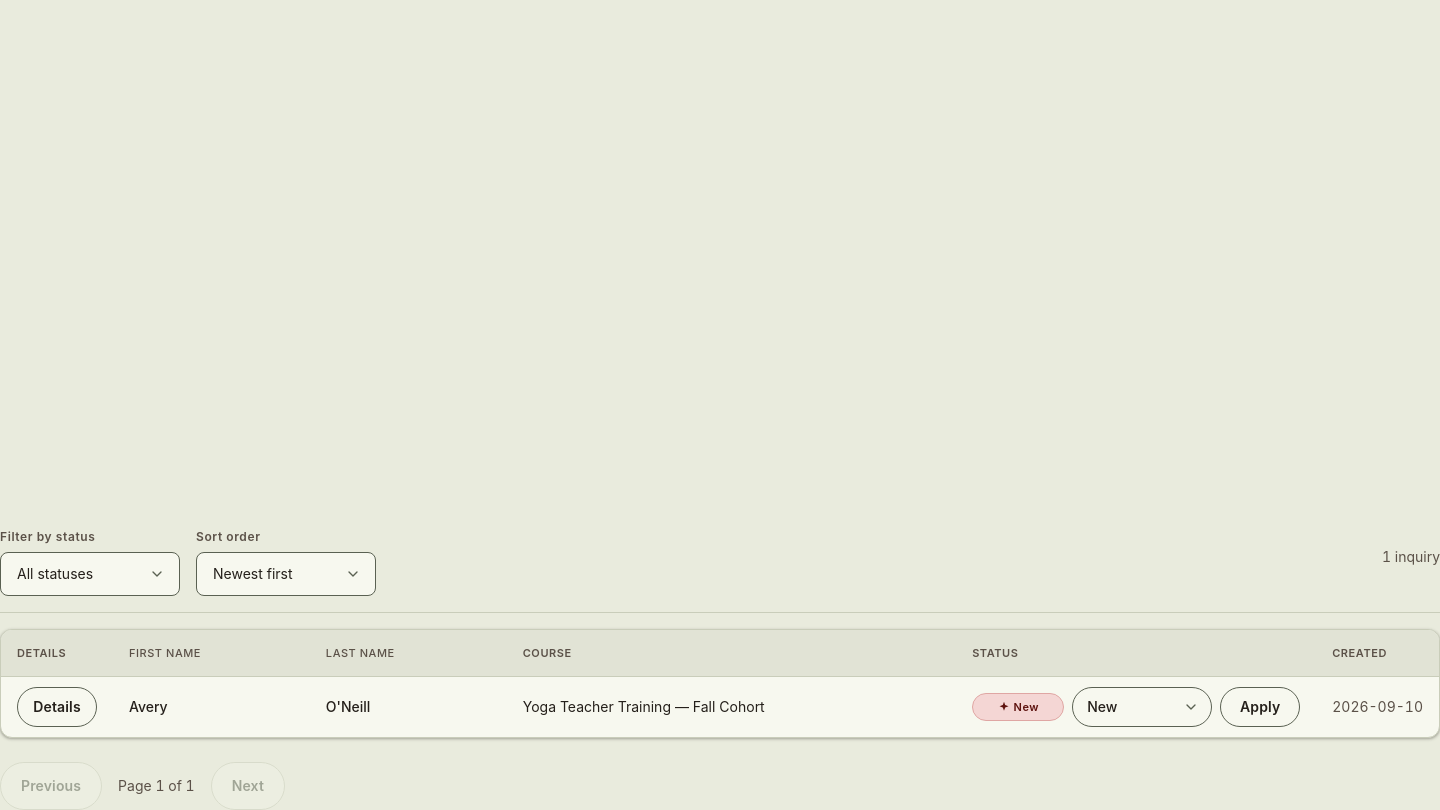
Scenario: IT-UI-028 detail focus moves in and returns to the opener › focuses the panel on open and restores the opener on Escape and Close
(page scrolled)
Click the button with aria-label "details for Avery O'Neill" at (57, 707), box [17,687,97,727]
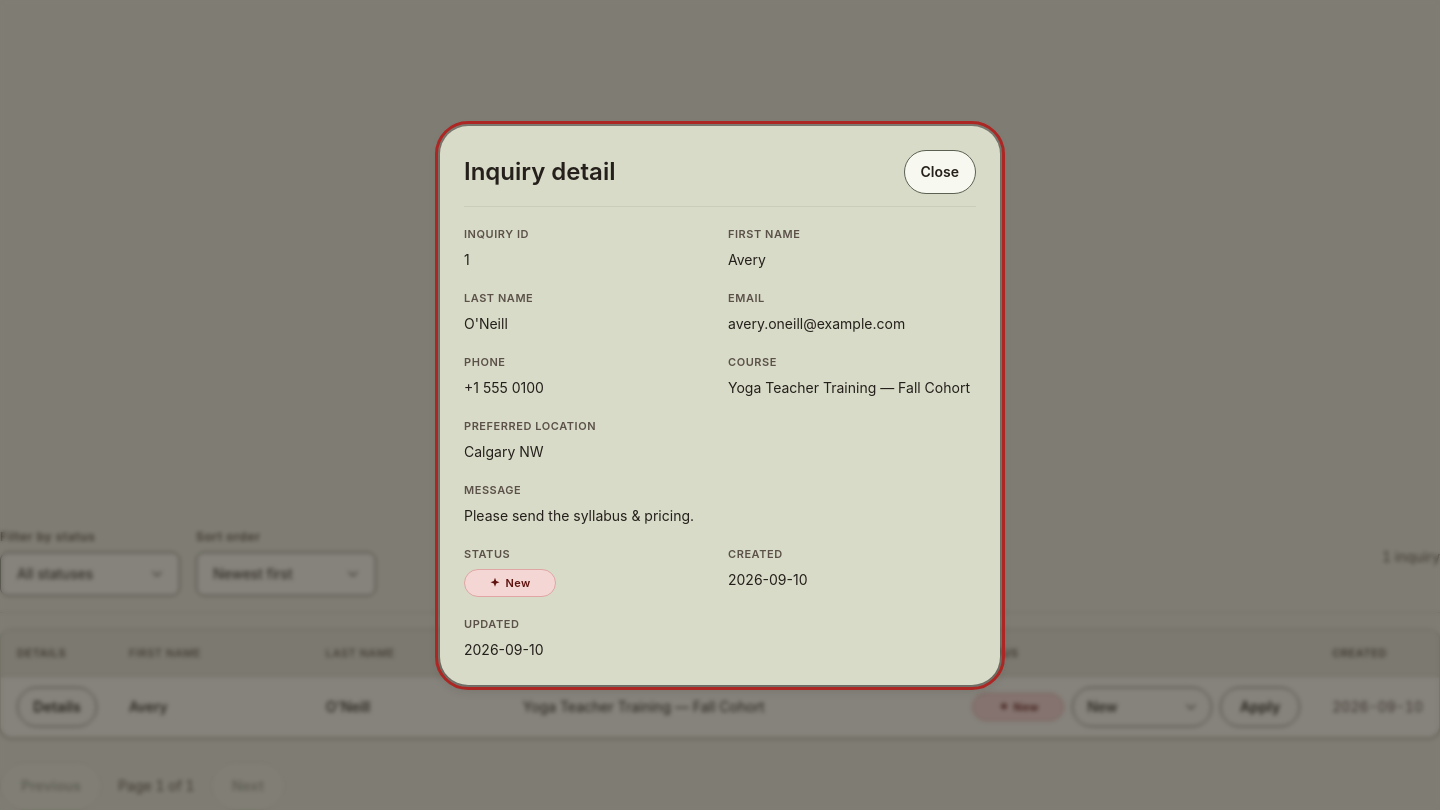
Check: the text "Email" is shown, box [728,290,765,304]
Press Escape
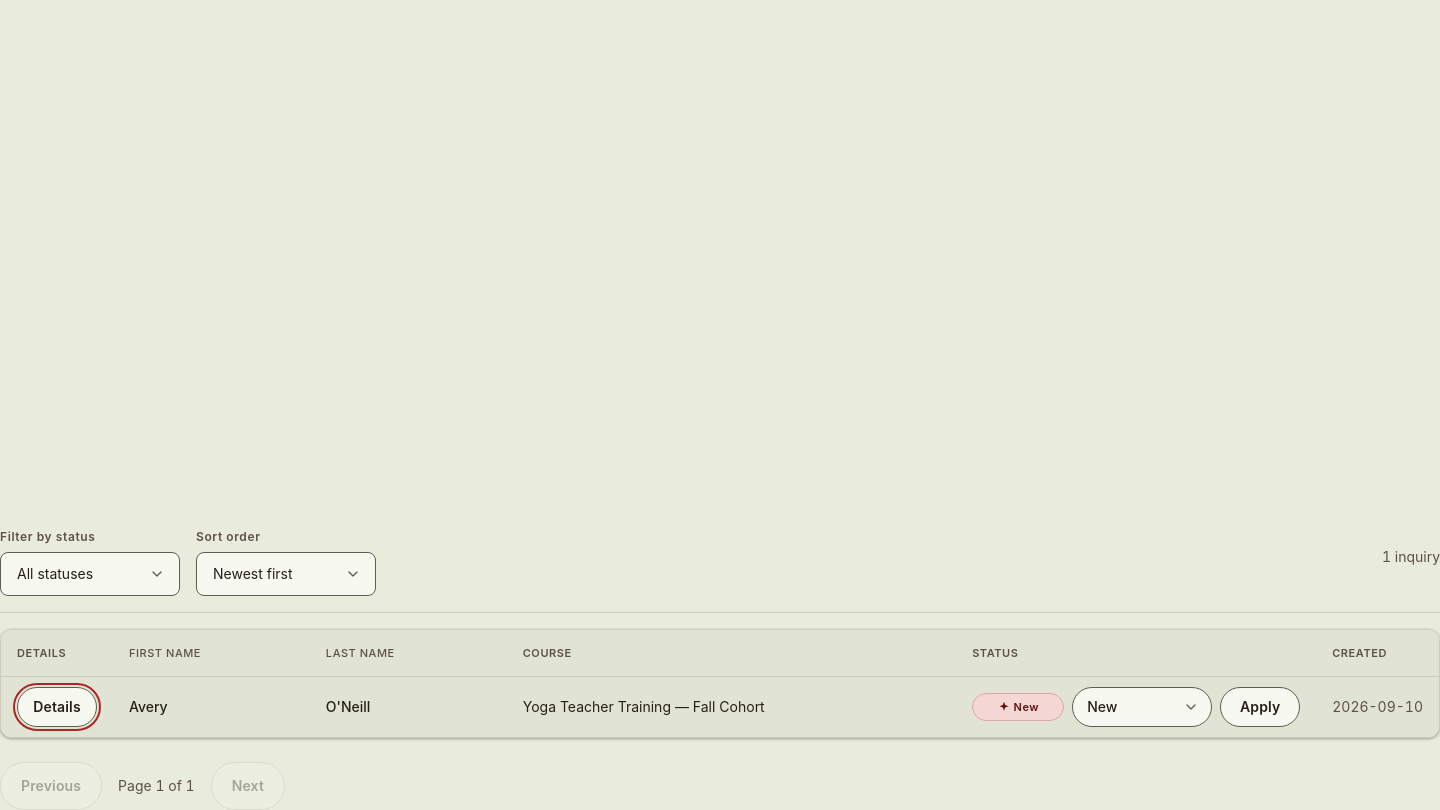
Check: the dialog with class "detail-panel" is gone
Click the button with aria-label "details for Avery O'Neill" at (57, 707), box [17,687,97,727]
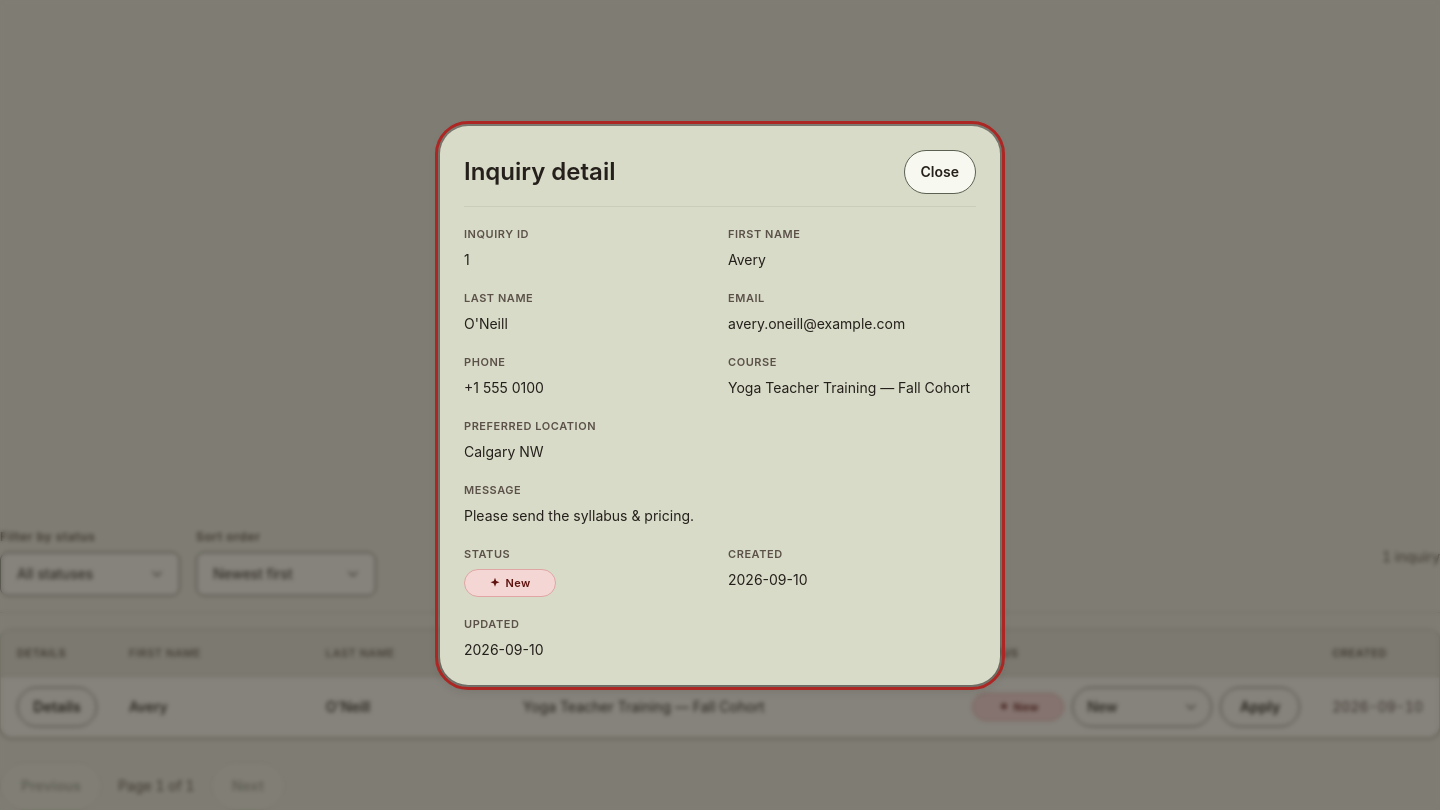
Check: the text "Email" is shown, box [728,290,765,304]
Click the button "Close" at (940, 172), box [904,150,976,194]
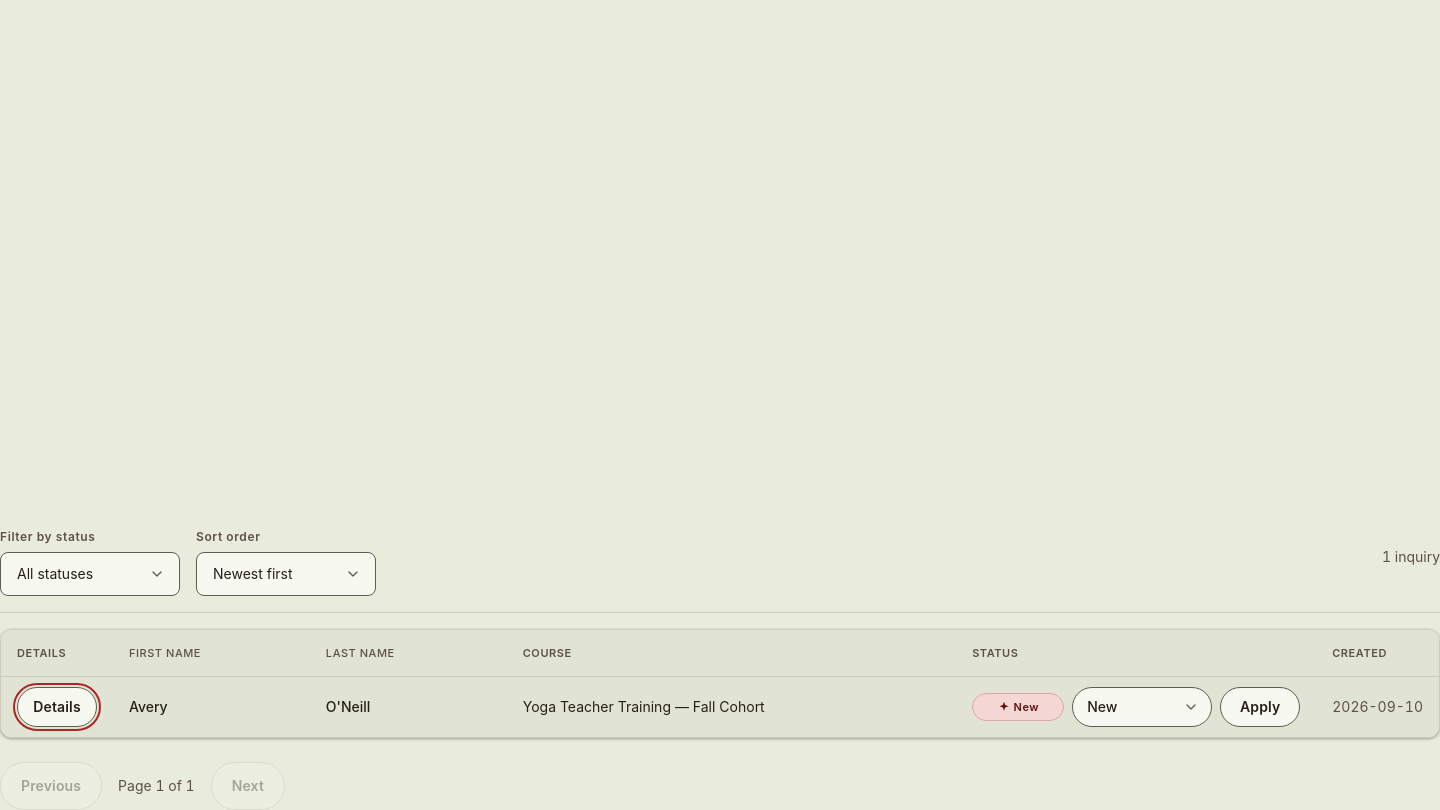
Check: the dialog with class "detail-panel" is gone
